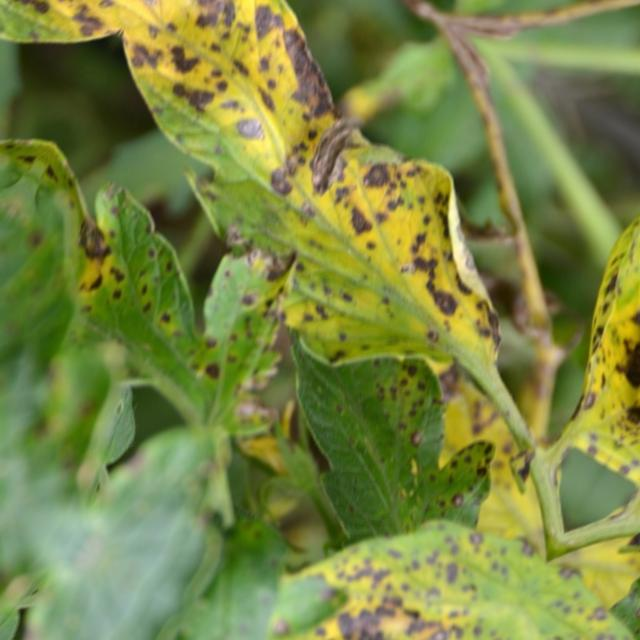Tomato Septoria leaf spot: (31, 0, 632, 441), (0, 135, 341, 486), (244, 454, 544, 640), (501, 190, 640, 481)
